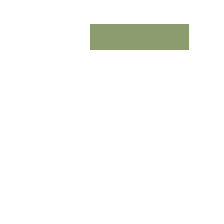rectangle: (90, 24, 188, 49)
